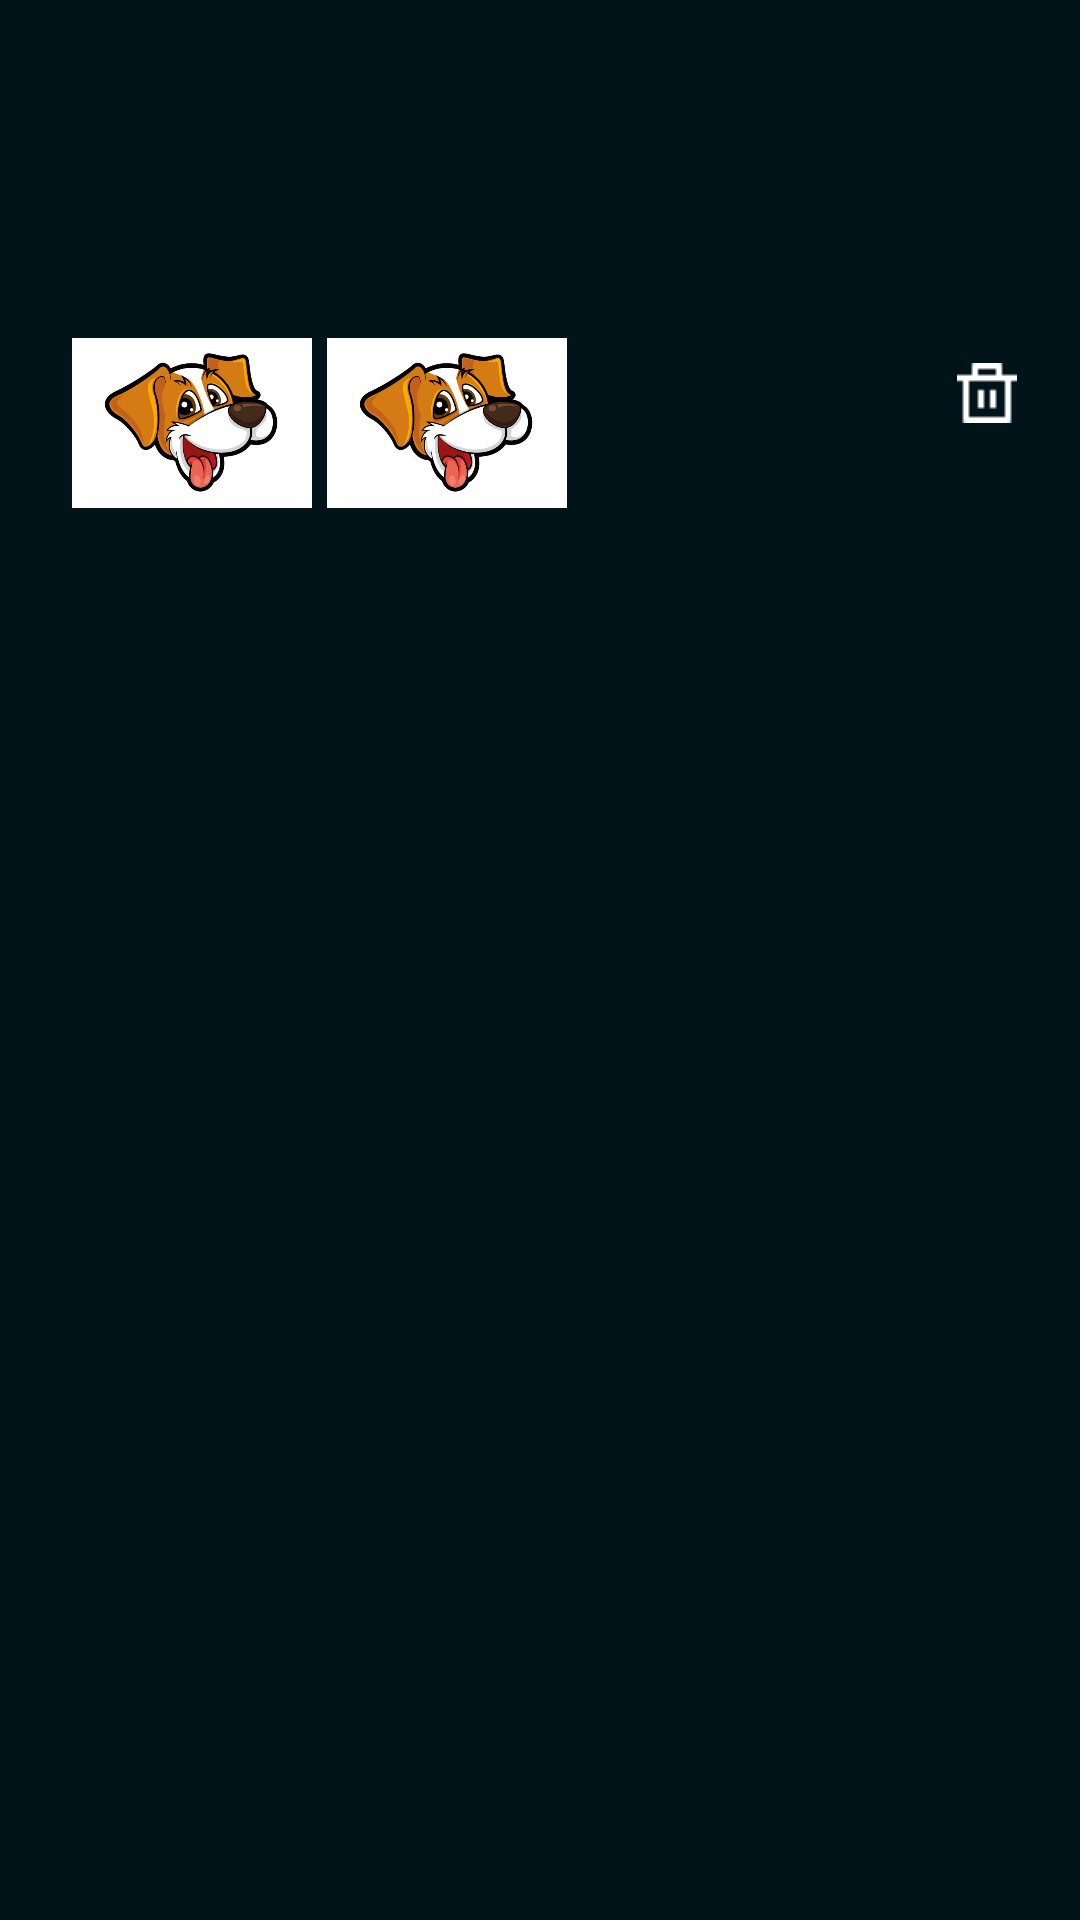

Point at icon controls on the screen. Image size 1080px×1920px, points as [x,y].
delete post: [987,393]
littledog: [192,423], [447,423]
